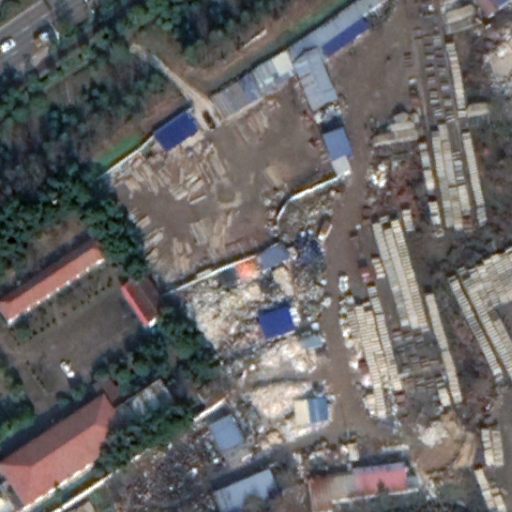msw: (178, 253, 316, 341), (245, 378, 321, 434)
